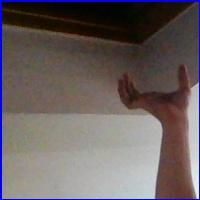space: (113, 62, 192, 135)
